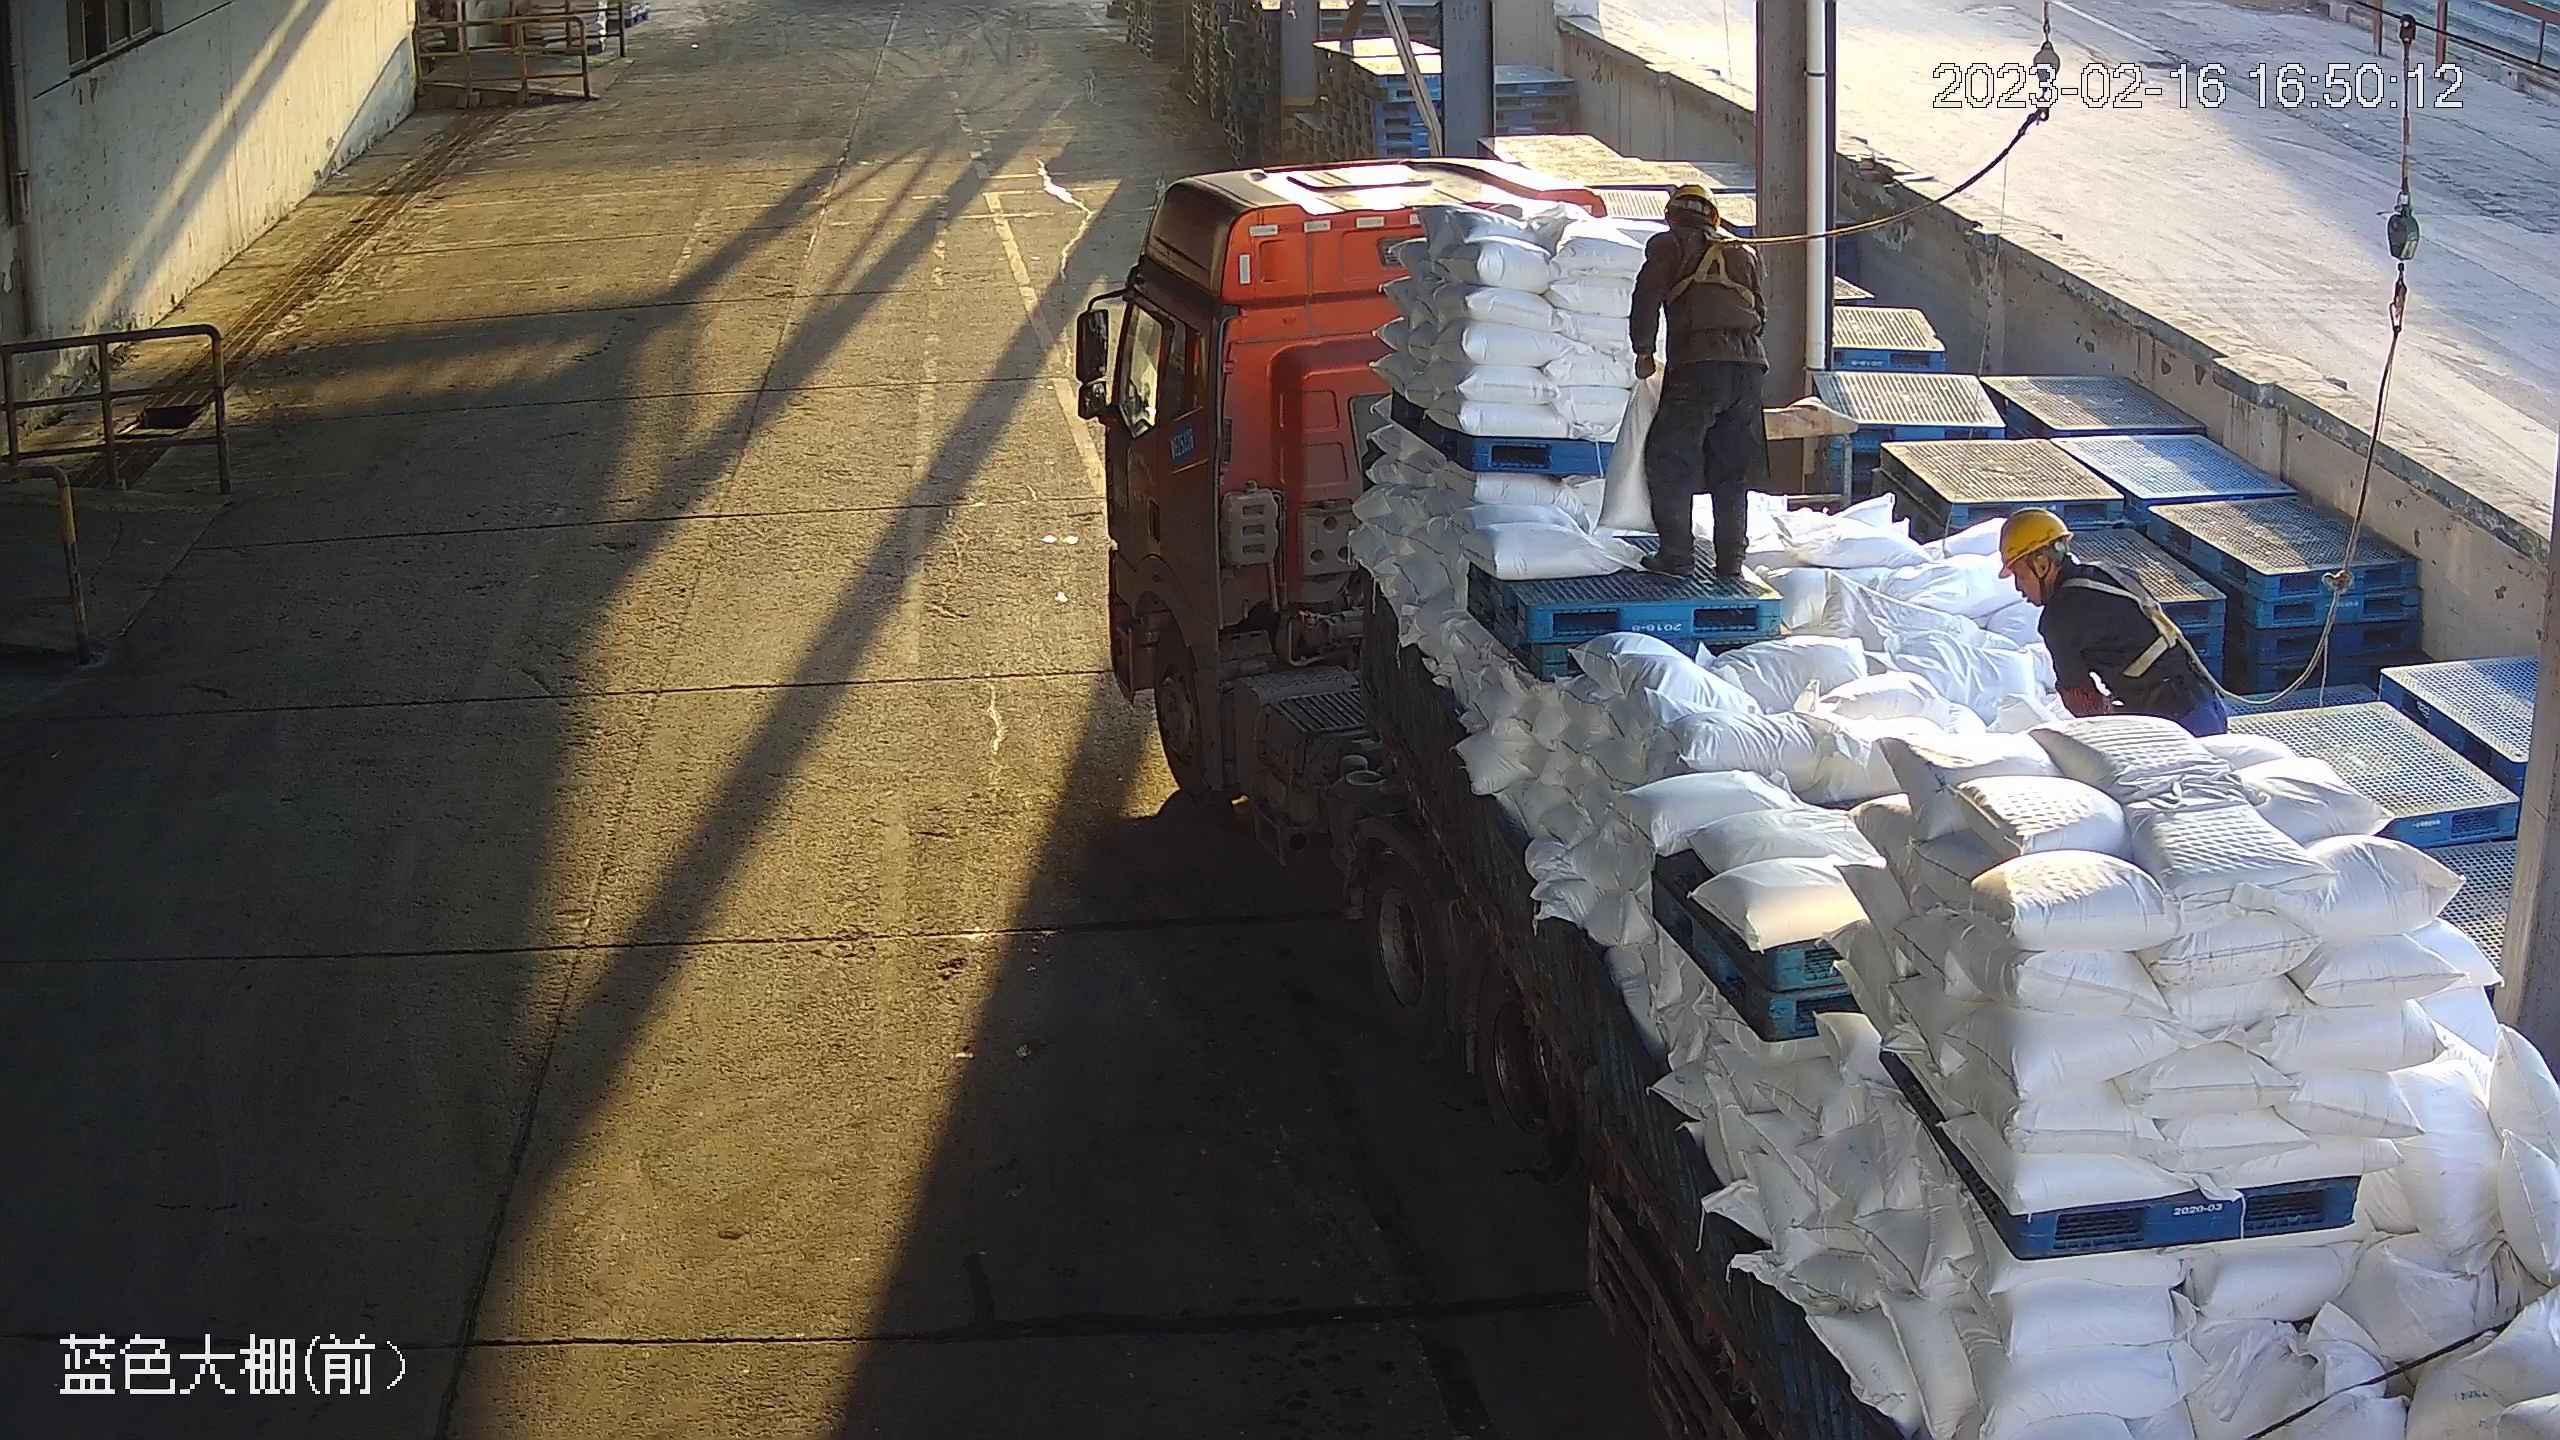belt: (2064, 561, 2198, 677), (1664, 226, 1761, 307)
head: (1994, 509, 2143, 637), (1643, 182, 1765, 284)
helmet: (1993, 507, 2076, 579), (1664, 182, 1721, 218)
people: (1629, 182, 1771, 576), (1995, 506, 2229, 739)
truck: (1072, 157, 2560, 1440)
